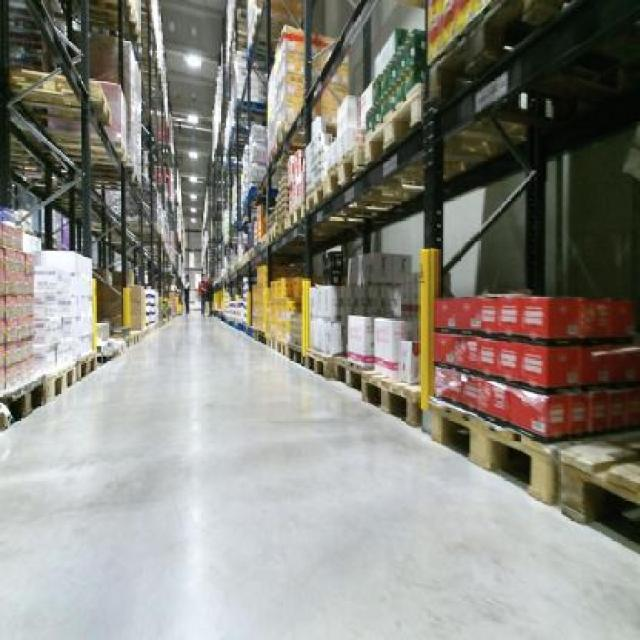pallet: (427, 392, 557, 507), (360, 78, 425, 166), (355, 369, 421, 434), (3, 369, 48, 433), (45, 355, 81, 409), (301, 345, 331, 382), (80, 347, 102, 382)
